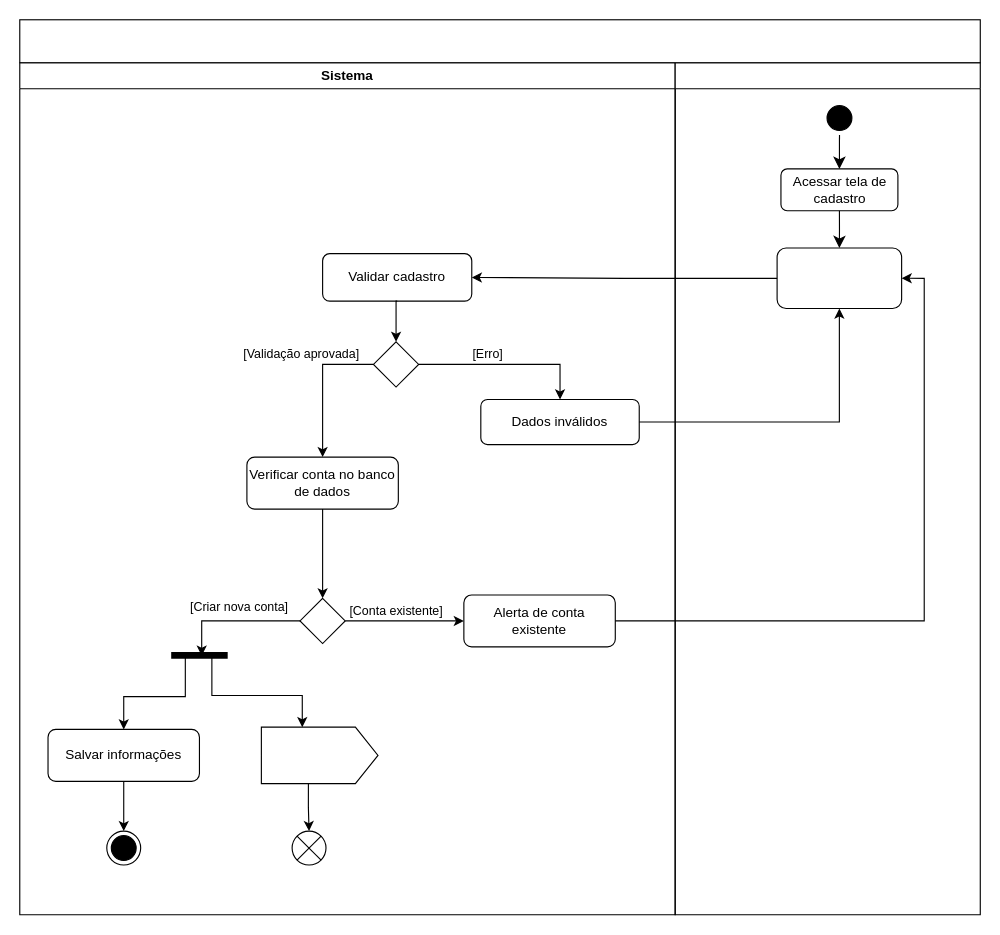
Some shapes in this 1000 by 935 pixel diagram are drawn without their labels. The shapes that lost their labels are listed below. From the top down, each one's box as (x1, y1, x2, y2) in pixels, then its label:
(19, 19, 980, 63): Diagrama de Atividades: Cadastro de Usuário/Cliente
(776, 247, 902, 308): Preencher os dados solicitados
(674, 62, 980, 915): Usuário
(260, 726, 378, 784): E-mail de confirmação
